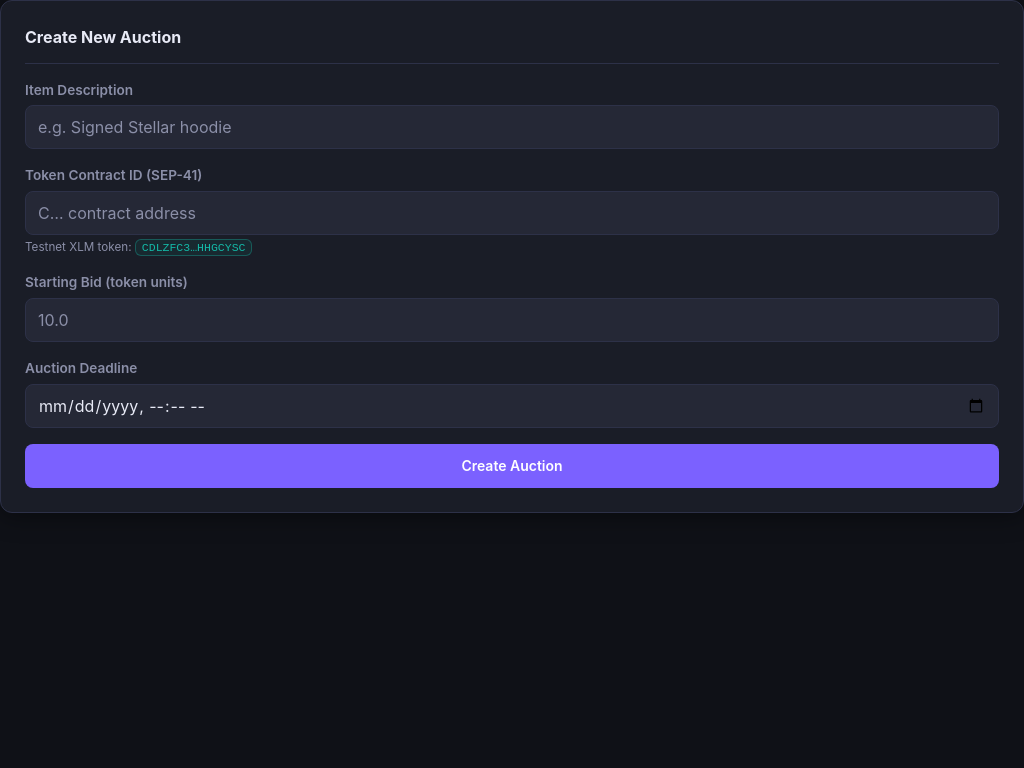
Test: CreateAuction — client-side validation › shows error when deadline is in the past
In the field with placeholder "e.g. Signed Stellar hoodie": (512, 127) [25, 105, 999, 149], type "Item"
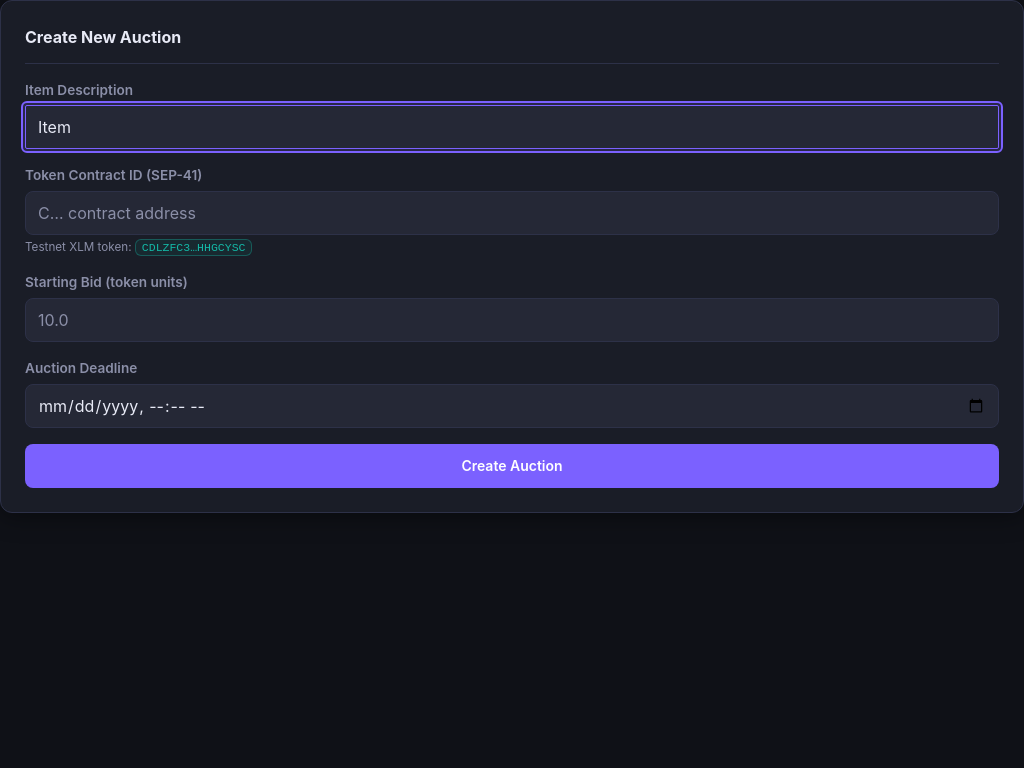
In the field with placeholder "C… contract address": (512, 213) [25, 191, 999, 235], type "CTOKEN"
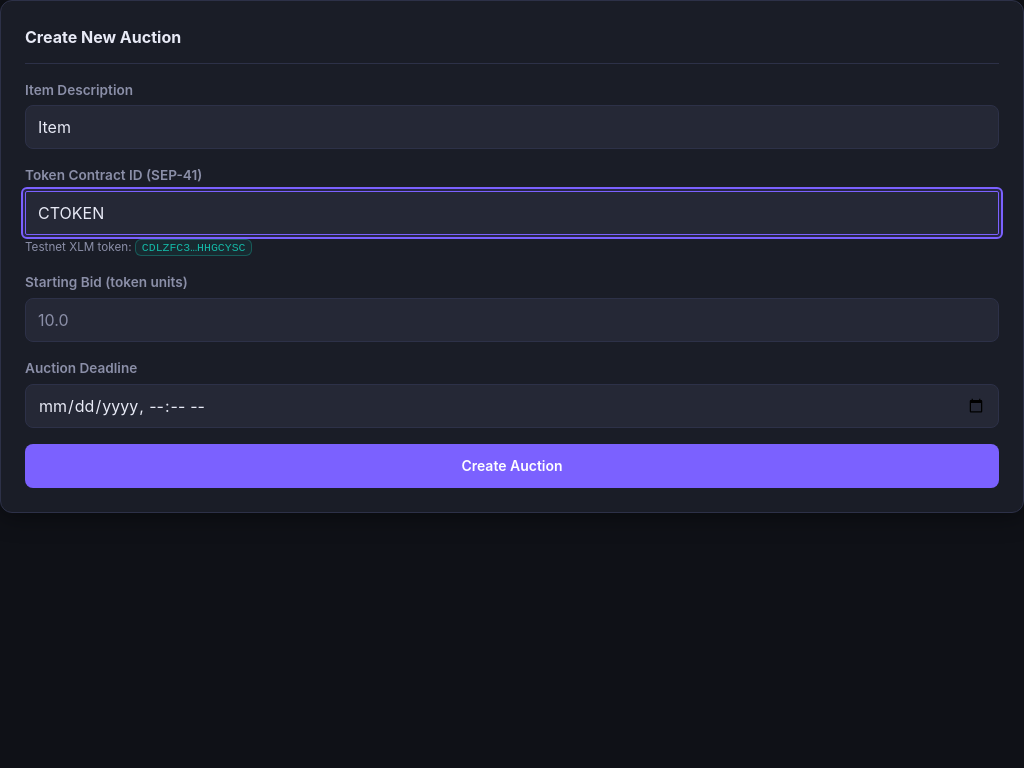
In the number field with placeholder "10.0": (512, 320) [25, 298, 999, 342], type "5"
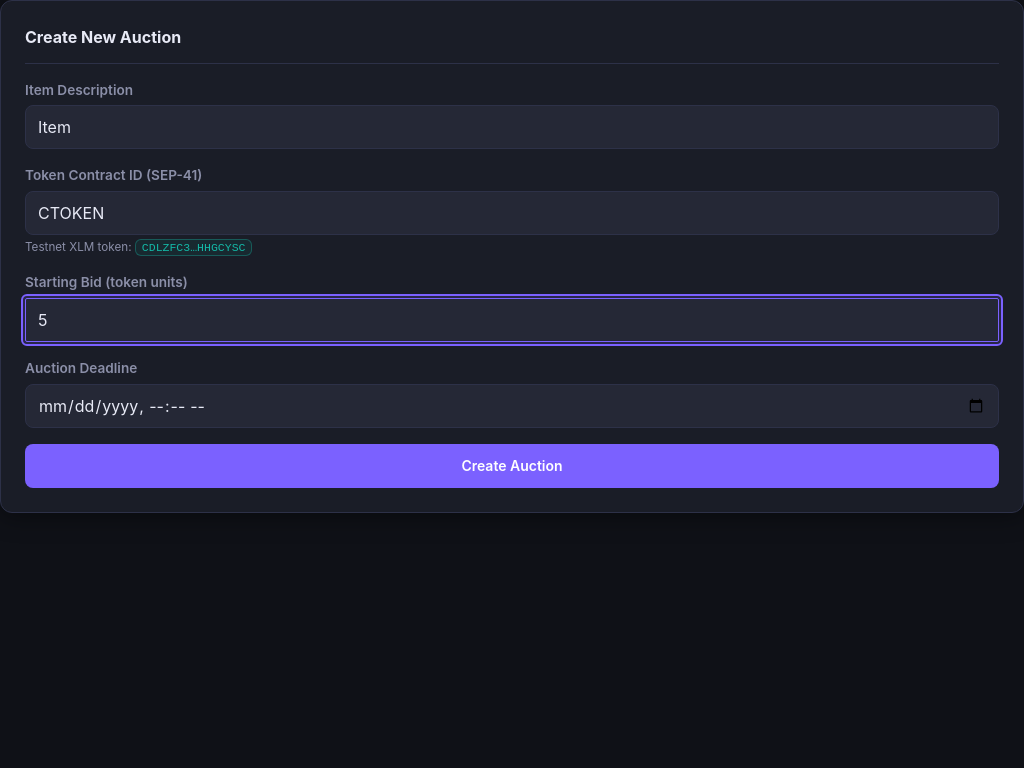
// Set a past datetime
In the field labelled "Auction Deadline": (512, 406) [25, 384, 999, 428], type "2020-01-01T00:00"
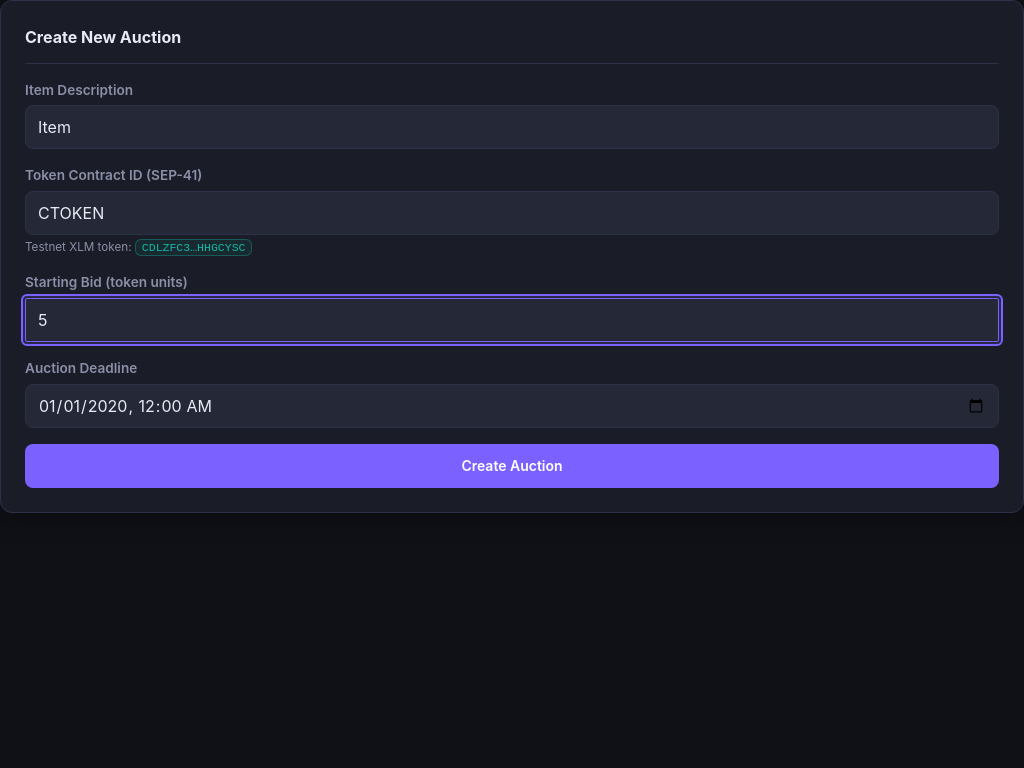
Click the button "Create Auction": (512, 466) [25, 444, 999, 488]
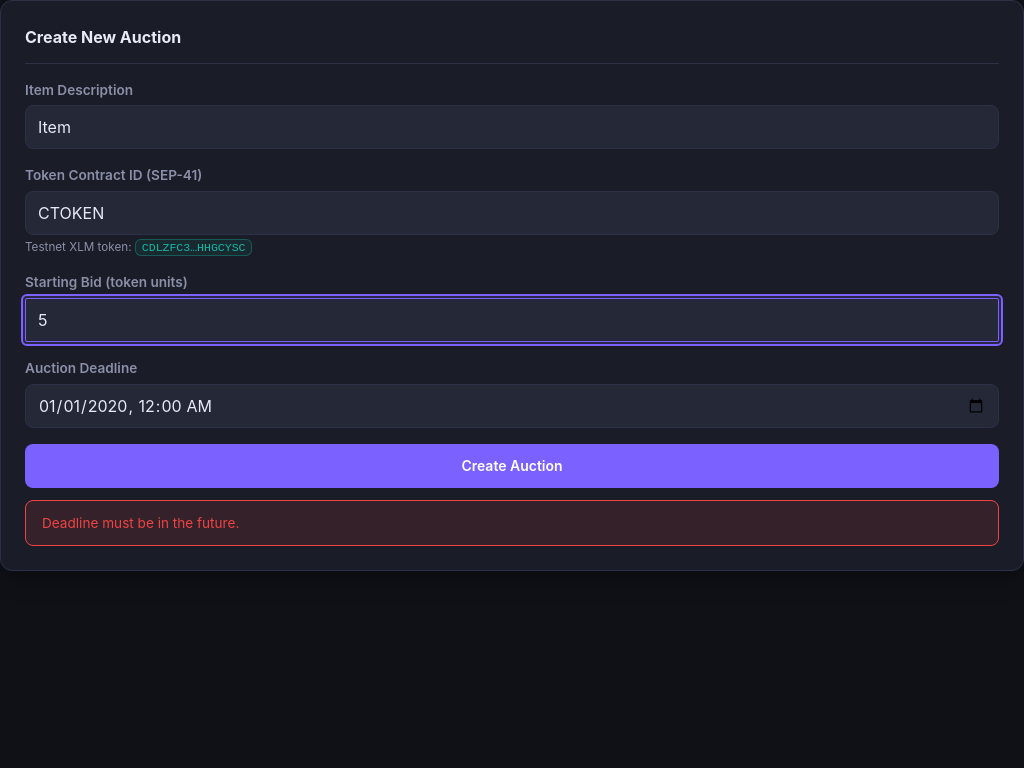
Now the text "Deadline must be in the future." is shown, box [25, 500, 999, 546]
